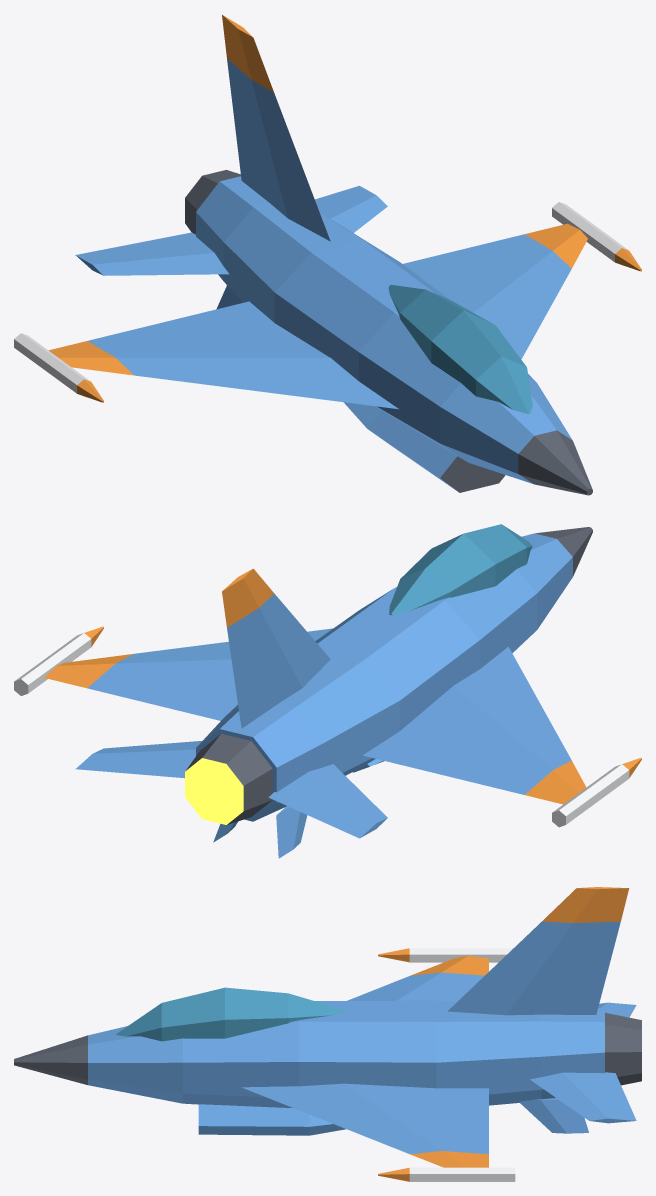
File: jet_f16.glb
3 views of the same model, one above another, from view 1: azimuth 30°, elevation 25°; view 2: azimuth 150°, elevation 25°; view 3: azimuth 270°, elevation 25° (orthographic). The views are drawn at different scales.
Parts seen in each view (by area): view 1: LowPolyJet_F16; view 2: LowPolyJet_F16; view 3: LowPolyJet_F16.
Part boxes in pixels (x1,y1,x2,y2): LowPolyJet_F16: (14,15,641,495); LowPolyJet_F16: (14,524,641,858); LowPolyJet_F16: (14,887,641,1181).
Bounding box in the file's own units: 5.05 × 2.49 × 5.95.
